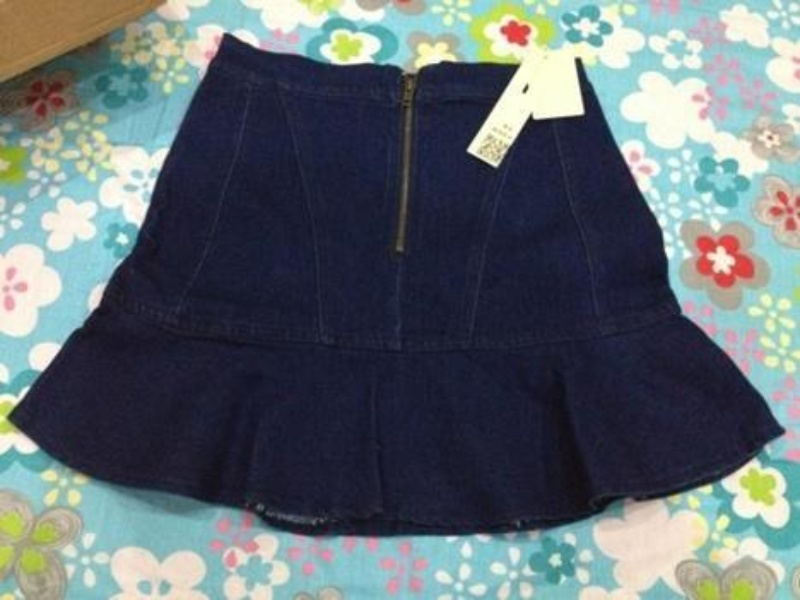skirt: (5, 31, 790, 540)
